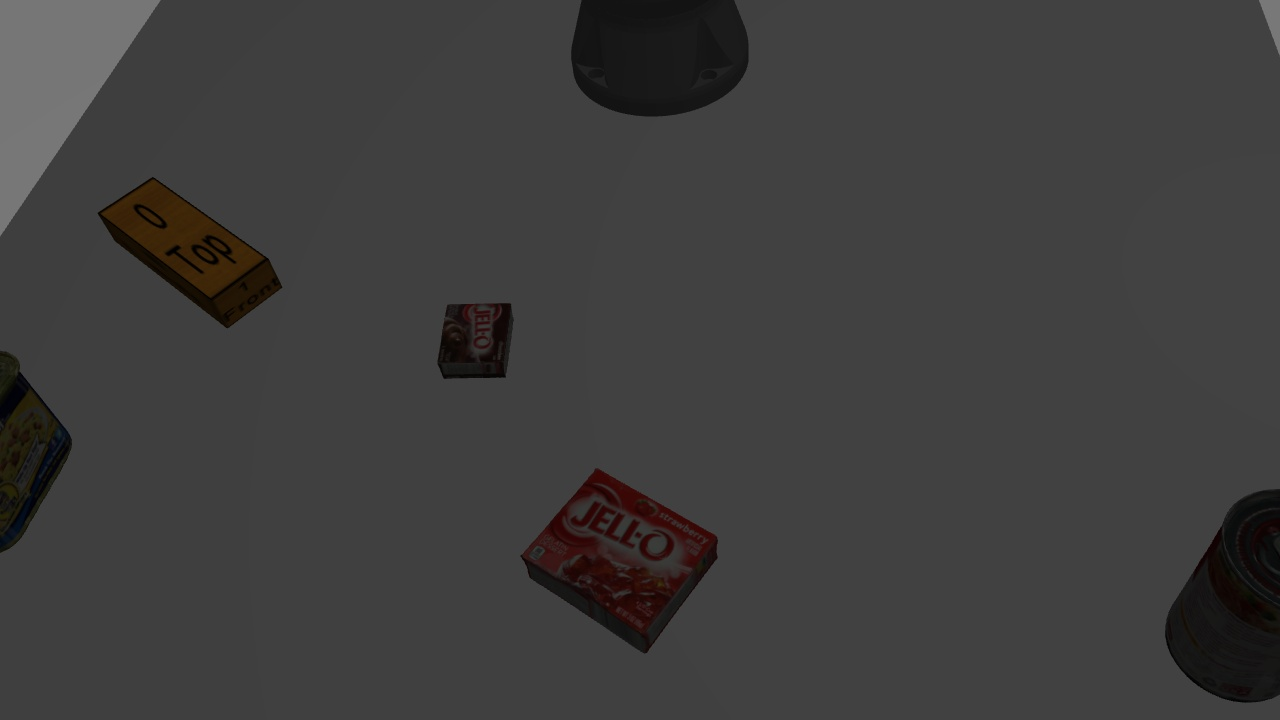gelatin_box: (500, 460, 724, 615)
jenga: (95, 170, 288, 327)
potted_meat_can: (2, 326, 73, 557)
pudding_box: (436, 297, 514, 380)
spoon: (747, 590, 961, 630)
tomato_soup_can: (1159, 463, 1278, 705)
